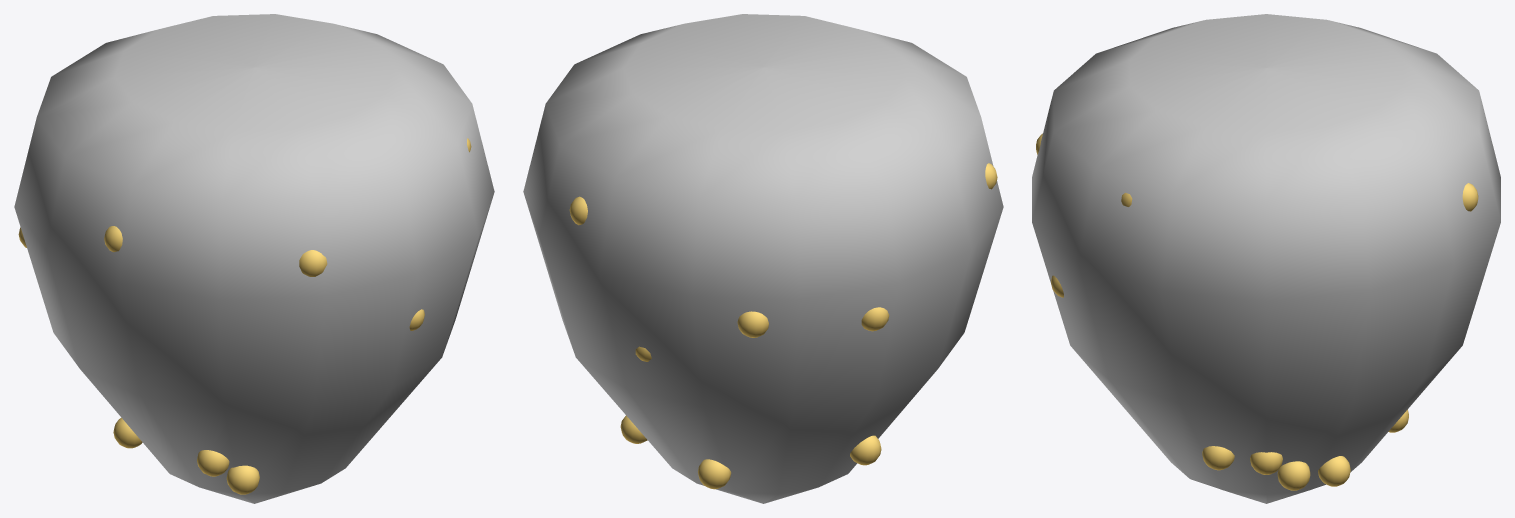
Rendered from golden-fruit-strawberry-gold.glb.
3 views of the same model, side by side, from view 1: azimuth 30°, elevation 25°; view 2: azimuth 150°, elevation 25°; view 3: azimuth 270°, elevation 25° (orthographic).
Parts seen in each view (by area): view 1: golden-fruit-strawberry; view 2: golden-fruit-strawberry; view 3: golden-fruit-strawberry.
Part boxes in pixels (x1,y1,x2,y2): golden-fruit-strawberry: (14, 14, 494, 503); golden-fruit-strawberry: (523, 14, 1003, 503); golden-fruit-strawberry: (1032, 14, 1500, 503).
Size of the model in its own units: 0.2408 by 0.2408 by 0.2348.
